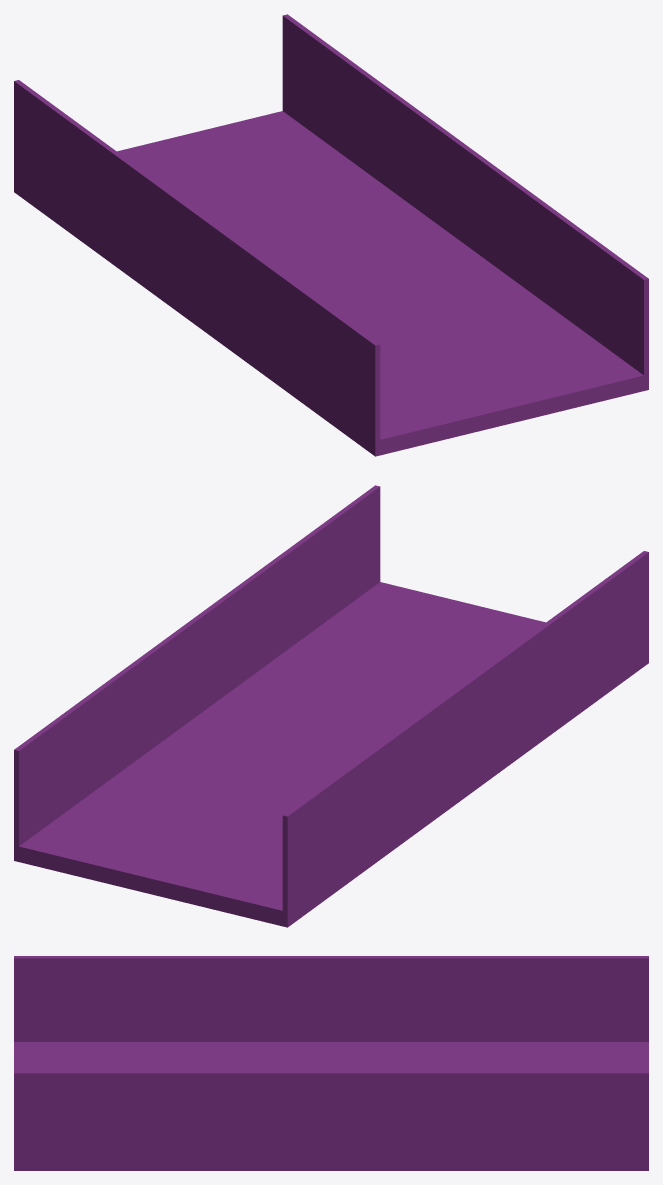
The model's file is climb-skin-9.glb.
The picture shows the model from 3 angles, top to bottom: view 1: azimuth 30°, elevation 25°; view 2: azimuth 150°, elevation 25°; view 3: azimuth 270°, elevation 25°; orthographic projection. The views are drawn at different scales.
Visible parts, largest first — view 1: climb-skin-9; view 2: climb-skin-9; view 3: climb-skin-9.
Boxes of the visible parts, x1,y1,x2,y2 form: climb-skin-9: (14, 14, 648, 456); climb-skin-9: (14, 485, 648, 927); climb-skin-9: (14, 956, 648, 1170).
Size of the model in its own units: 3.3 by 1.28 by 7.55.
1 material, 1 textured.
